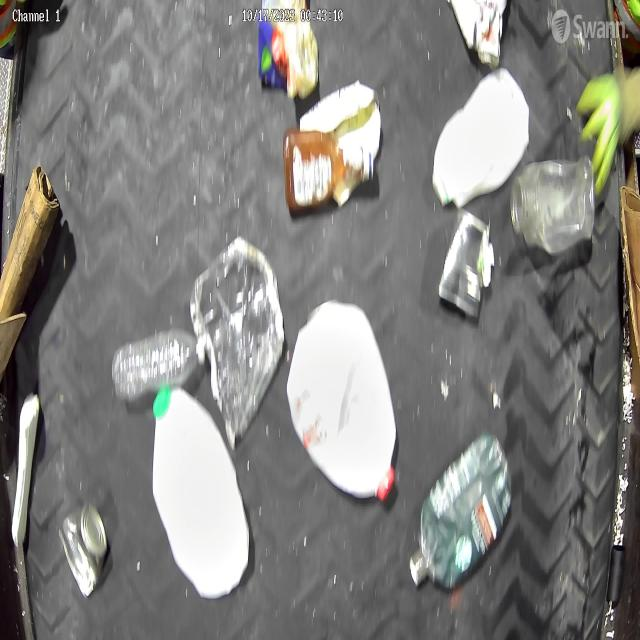milk-jug: (286, 296, 402, 513), (150, 377, 252, 602)
